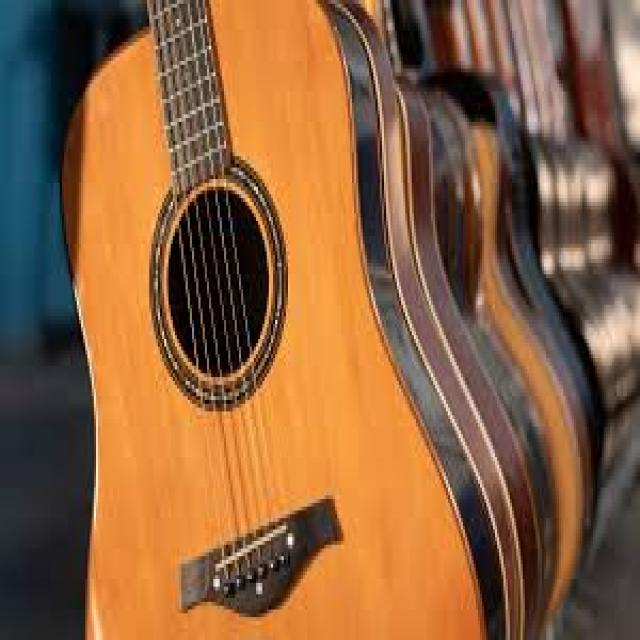acousticguitar: (64, 0, 518, 636)
